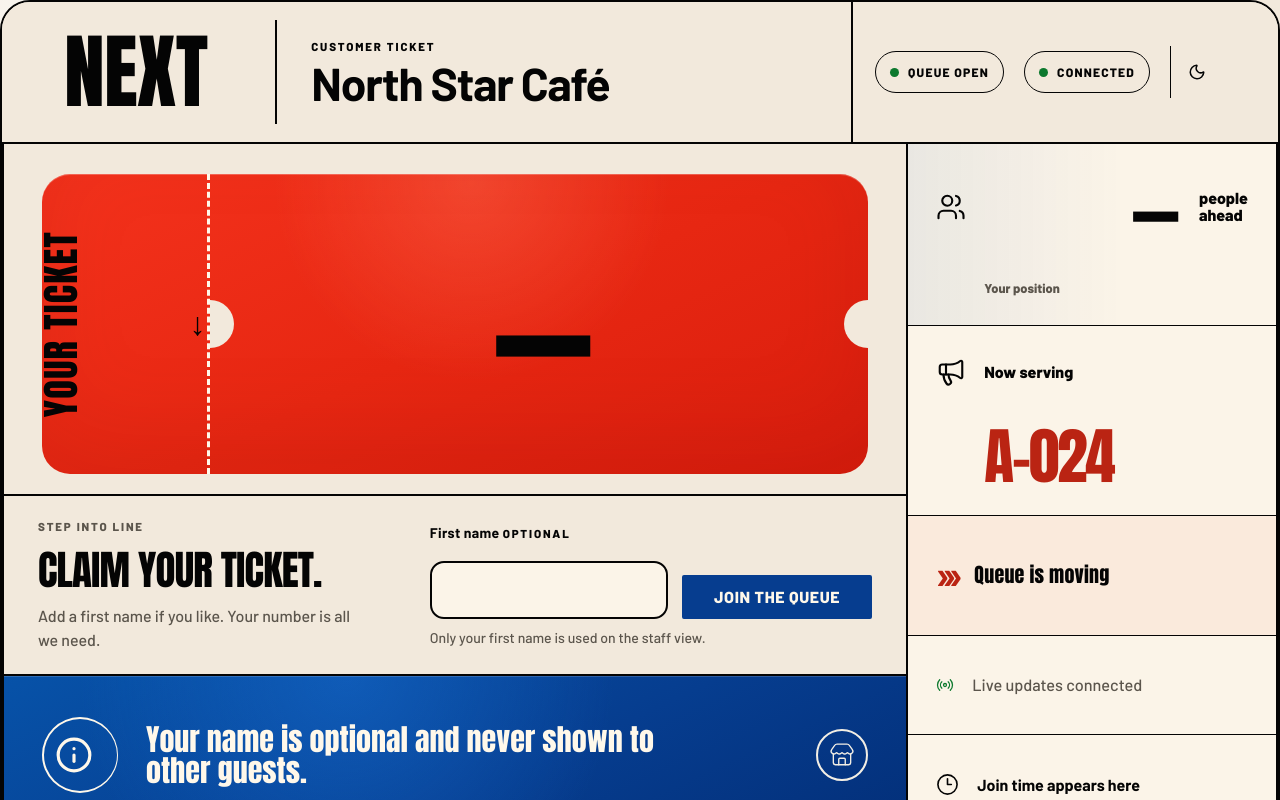
Test: CustomerPrototype › joins with an optional name and shows the assigned number
The image size is (1280, 800).
Type "Ari" into the field labelled "First name optional".
click(549, 590); type("Ari")  # box [430, 561, 668, 619]
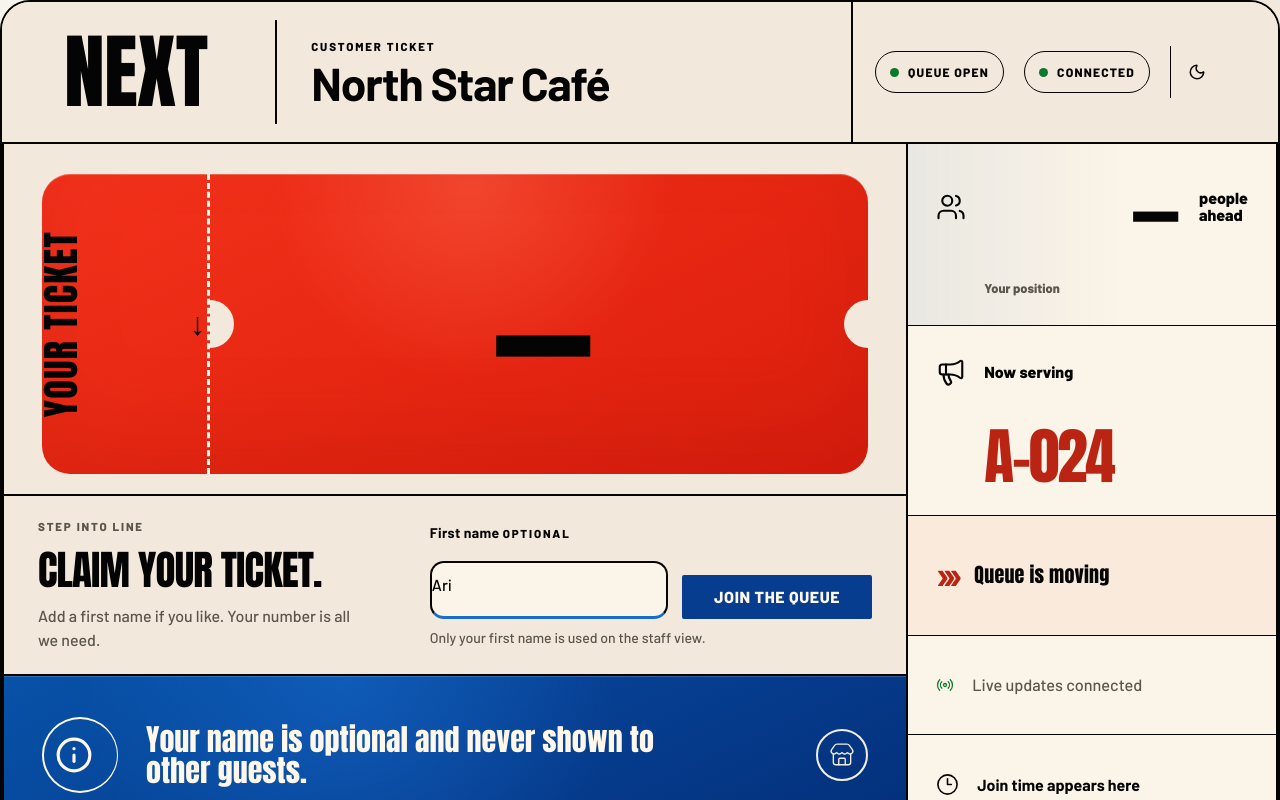
Click the button "Join the queue".
click(777, 597)  # box [682, 575, 872, 619]
(page scrolled)
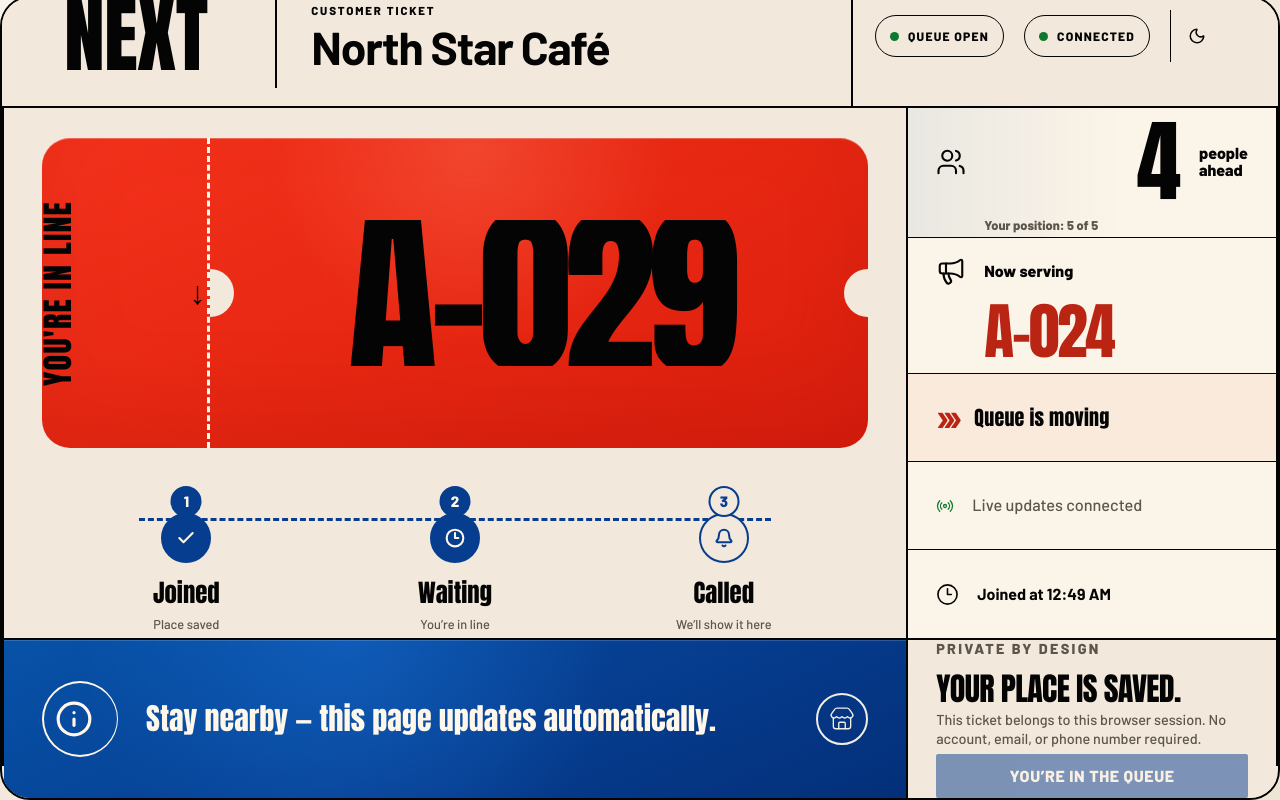
Check: the element named "Queue number A-029" is shown, box [347, 152, 731, 433]
Check: the button "You’re in the queue" is disabled, box [936, 754, 1248, 798]
